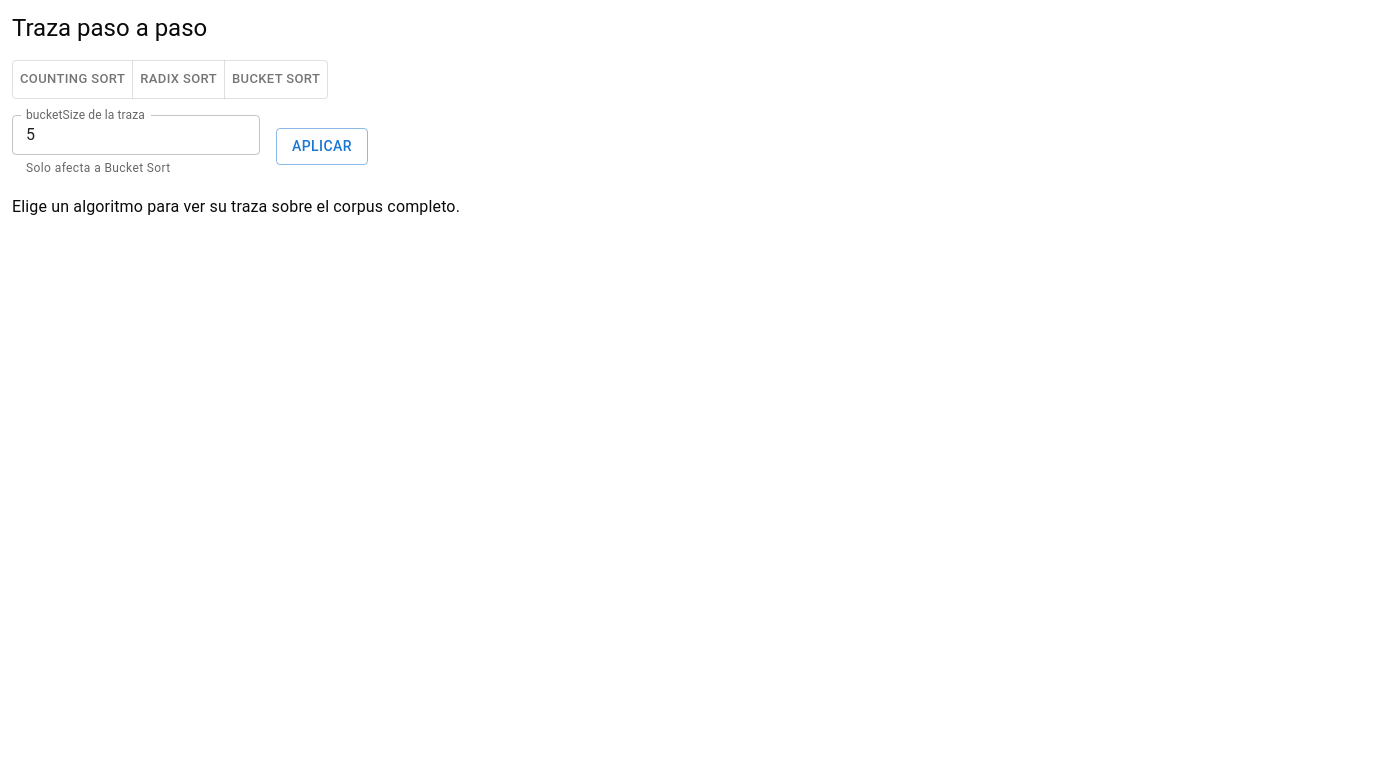
it: SortTraceView (REQ-16, AC-12, AC-25) › muestra los pasos de Radix Sort en orden, con una tarjeta por pasada
Click the button "Radix Sort": coordinates (179, 79) [132,60,225,99]
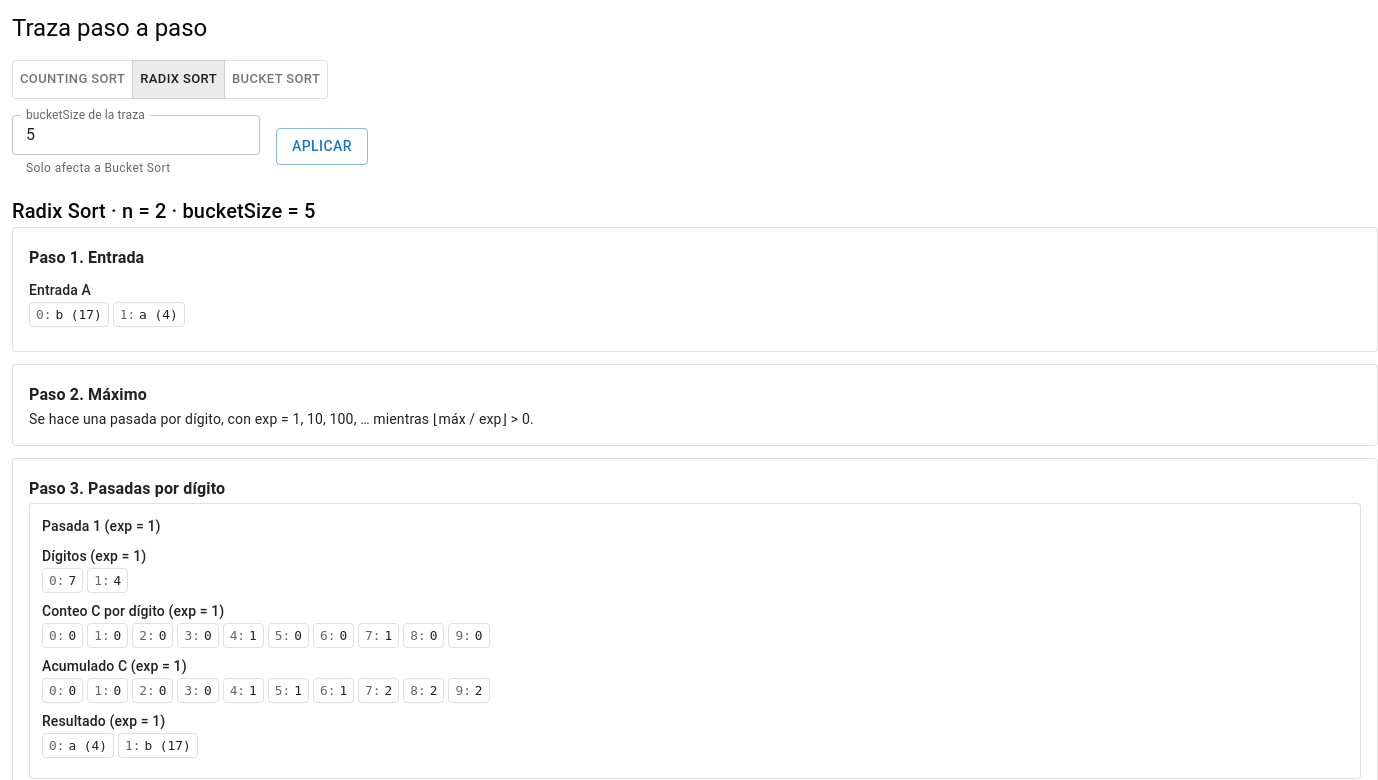
expect the heading "Paso 1. Entrada" is shown: met, box [29,248,144,267]
